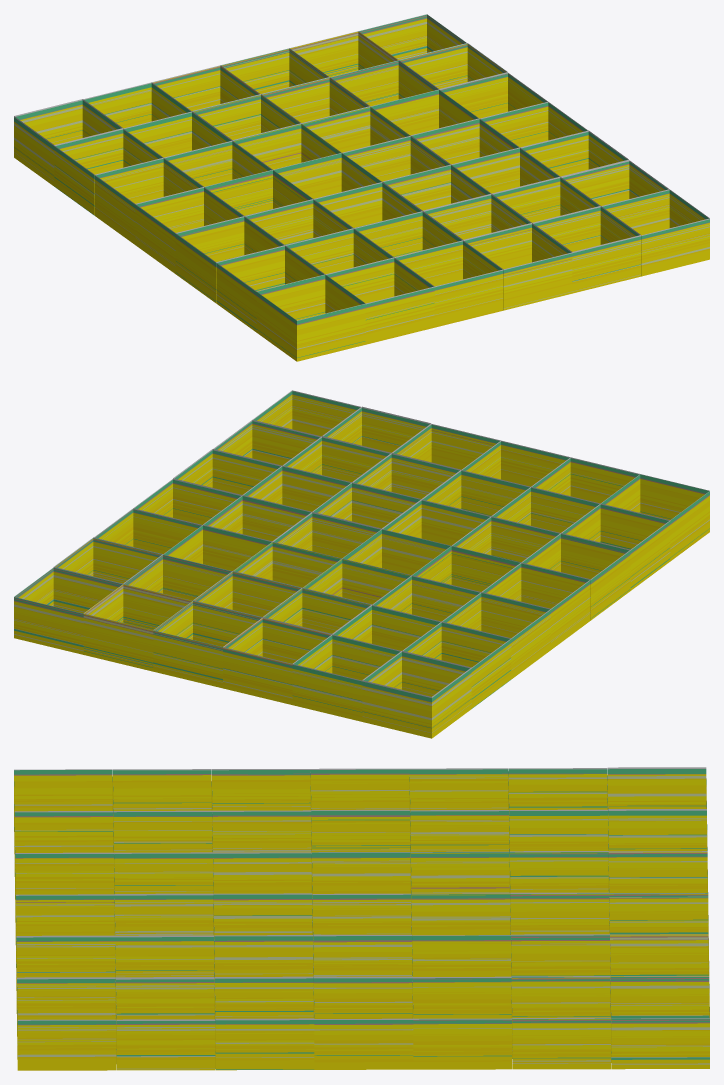
3 renders of one model, top to bottom at view 1: azimuth 30°, elevation 25°; view 2: azimuth 150°, elevation 25°; view 3: azimuth 270°, elevation 25°, orthographic. The views are drawn at different scales.
Parts seen in each view (by area): view 1: mesh; view 2: mesh; view 3: mesh.
Boxes of the visible parts, box(x1,y1,x2,y2) form: mesh: box(14, 14, 709, 361); mesh: box(14, 390, 709, 738); mesh: box(14, 767, 709, 1070).
Size of what is drawn, in the model's own units: 986 by 94 by 1151.
